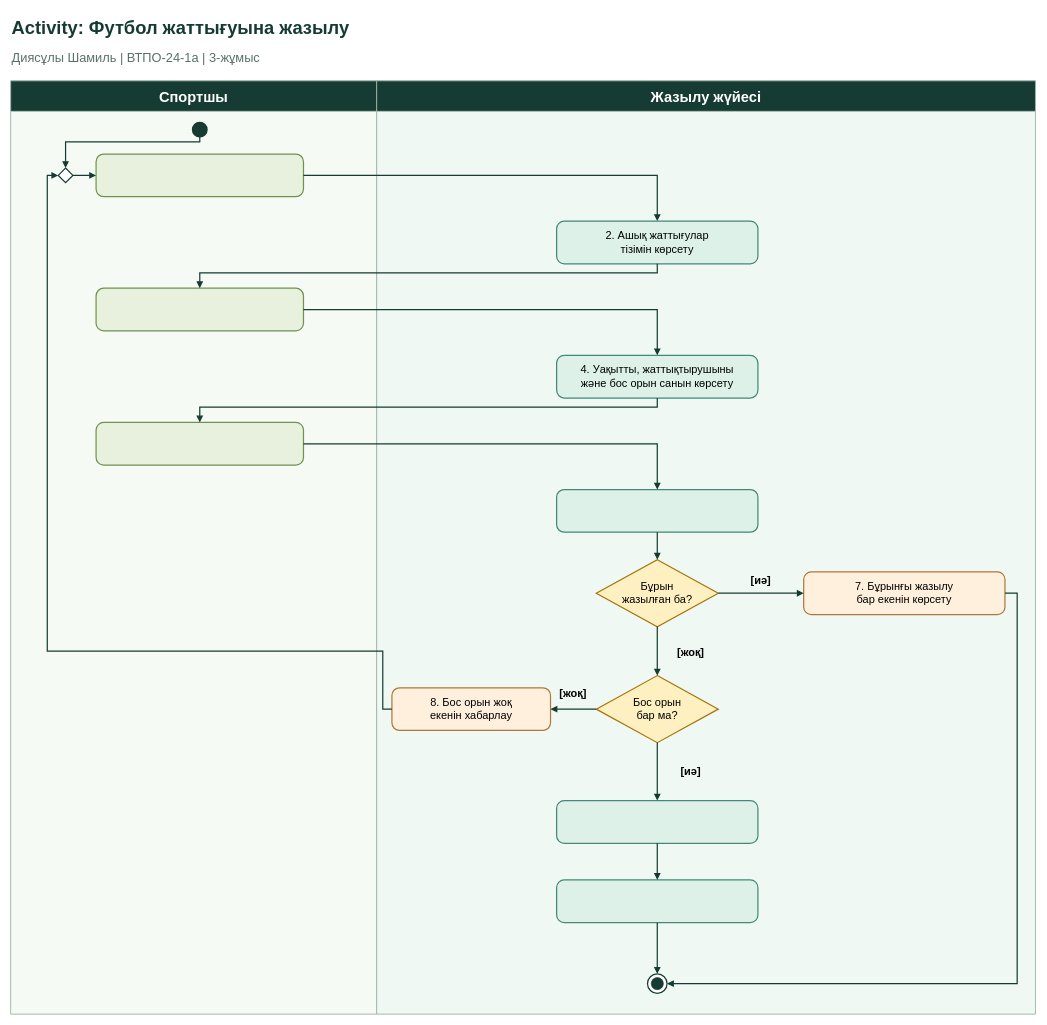
Image size: 1047x1025. Some labels were removed from this diagram. Here are the shapes that lost their labels. From the top down, the centre of each, then its label:
At (x=199, y=175): "1. Жаттығу күнін таңдау".
At (x=199, y=309): "3. Жаттығуды таңдау".
At (x=199, y=443): "5. Жаттығуға жазылуды растау".
At (x=657, y=511): "6. Қайталануды және бос орынды тексеру".
At (x=657, y=822): "9. Жаңа жазылуды сақтау".
At (x=657, y=901): "10. Жазылу нөмірін және растауды көрсету".
